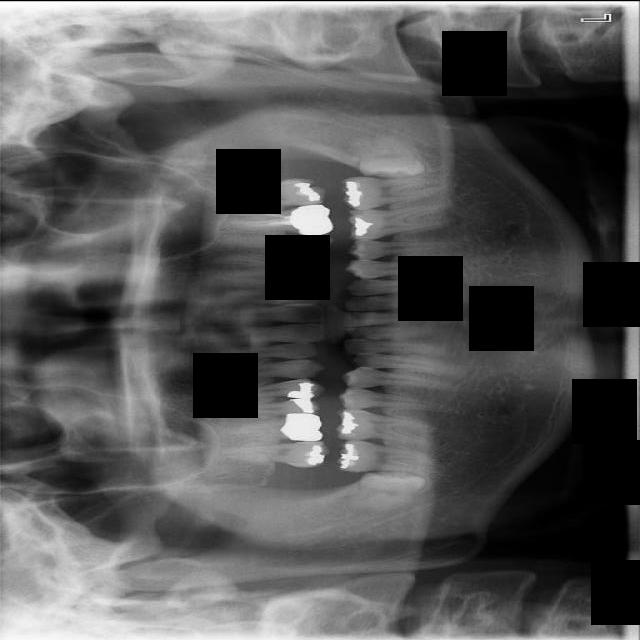52: (336, 436, 384, 475), (333, 404, 379, 444), (346, 204, 392, 242), (288, 201, 335, 238), (340, 175, 389, 210), (273, 176, 327, 205), (283, 439, 331, 467), (280, 412, 324, 441), (278, 377, 325, 398), (279, 398, 320, 416)
73: (211, 205, 296, 232), (569, 42, 579, 46)
BioHorizons Implant: (206, 175, 327, 212)
Biomet 3i Implant: (350, 128, 426, 185)
Blue Sky Bio Implant: (340, 175, 450, 211)
Caries: (204, 438, 332, 470)
Implant: (337, 438, 441, 473)
Keystone Dental Implant: (348, 468, 428, 512)
